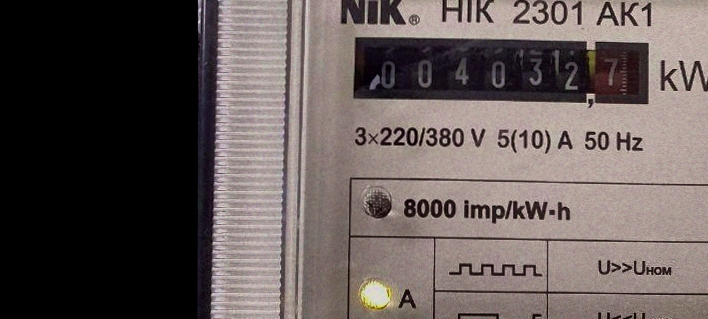0: (413, 56, 434, 89), (377, 56, 397, 89), (487, 56, 507, 89)
2: (561, 57, 580, 91)
3: (525, 54, 544, 86)
4: (450, 53, 471, 89)
7: (602, 55, 620, 88)
screen: (342, 28, 657, 116)
